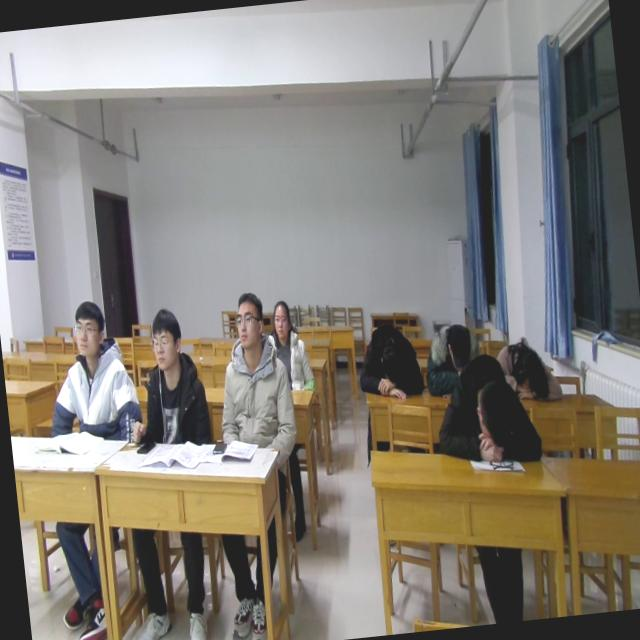bow: (427, 348, 542, 468), (351, 315, 427, 406), (494, 332, 564, 411), (419, 318, 484, 398)
lookup: (226, 284, 270, 350), (145, 304, 186, 371), (68, 293, 108, 358), (267, 294, 293, 342)
sit: (35, 296, 144, 452), (206, 289, 298, 460), (119, 304, 212, 452), (266, 296, 316, 394)
